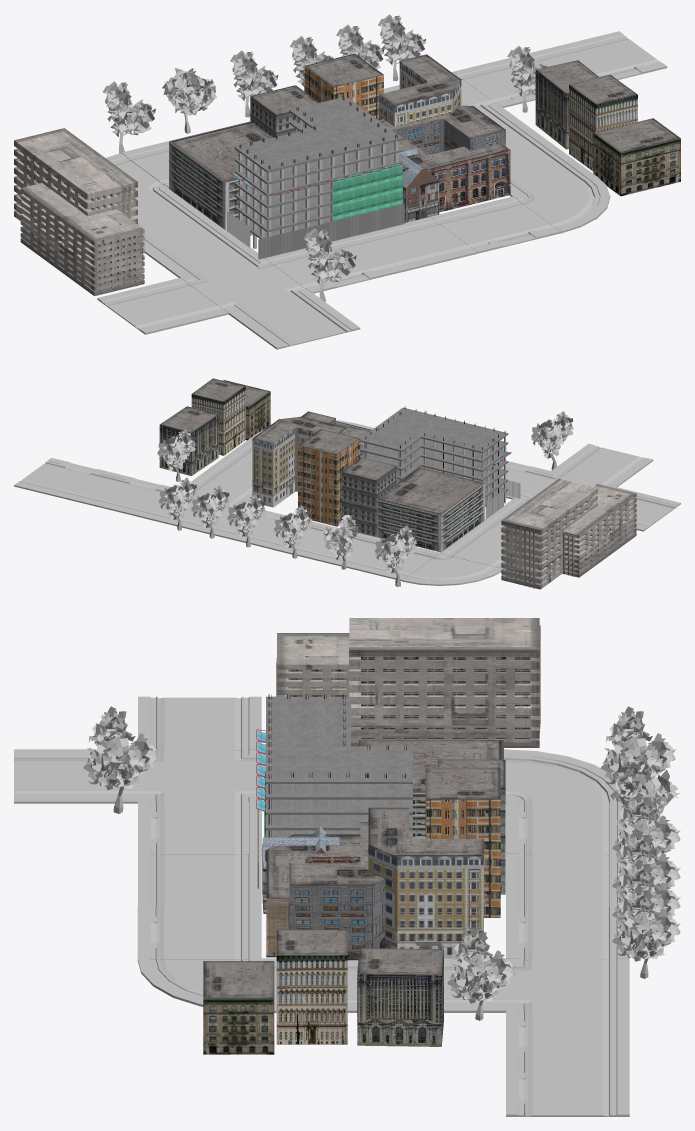
File: character5.fbx
3 views of the same model, one above another, from view 1: azimuth 30°, elevation 25°; view 2: azimuth 150°, elevation 25°; view 3: azimuth 270°, elevation 25° (orthographic). The views are drawn at different scales.
Visible parts, largest first — view 1: The_City:bldgs2.004, Plane.002, The_City:mesh01.001, The_City:mesh01.009, The_City:mesh01.014, Road-2-Lane-Straight.001, Road-2-Lane-Straight.002, Road-2-Lane-Driveway, The_City:mesh01.005, The_City:mesh01.013, Road-2-Lane-Straight, Road-2-Lane-X (+19 smaller); view 2: The_City:bldgs2.004, Plane.002, The_City:mesh01.009, The_City:mesh01.002, The_City:mesh01.005, The_City:mesh01.004, The_City:mesh01.013, The_City:mesh01.012, Road-2-Lane-Driveway.005, Road-2-Lane-Straight.002, Road-2-Lane-Driveway.004, Road-2-Lane-Corner.001 (+15 smaller); view 3: The_City:bldgs2.004, Plane.002, The_City:mesh01.005, The_City:mesh01.001, The_City:mesh01.012, The_City:mesh01.013, The_City:mesh01.002, The_City:mesh01.014, Road-2-Lane-Driveway.005, Road-2-Lane-Driveway, Road-2-Lane-Driveway.004, Road-2-Lane-Straight (+15 smaller).
Boxes of the visible parts, x1=… form: The_City:bldgs2.004: x1=14, y1=128, x2=144, y2=296; Plane.002: x1=234, y1=96, x2=402, y2=238; The_City:mesh01.001: x1=377, y1=105, x2=510, y2=212; The_City:mesh01.009: x1=169, y1=121, x2=272, y2=229; The_City:mesh01.014: x1=593, y1=118, x2=680, y2=196; Road-2-Lane-Straight.001: x1=97, y1=277, x2=228, y2=334; Road-2-Lane-Straight.002: x1=229, y1=292, x2=360, y2=349; Road-2-Lane-Driveway: x1=430, y1=196, x2=561, y2=253; The_City:mesh01.005: x1=379, y1=54, x2=461, y2=126; The_City:mesh01.013: x1=569, y1=74, x2=637, y2=171; Road-2-Lane-Straight: x1=348, y1=217, x2=478, y2=273; Road-2-Lane-X: x1=181, y1=258, x2=311, y2=313; The_City:bldgs2.004: x1=501, y1=479, x2=636, y2=589; Plane.002: x1=360, y1=407, x2=508, y2=506; The_City:mesh01.009: x1=377, y1=467, x2=485, y2=552; The_City:mesh01.002: x1=298, y1=429, x2=360, y2=526; The_City:mesh01.005: x1=252, y1=416, x2=347, y2=507; The_City:mesh01.004: x1=341, y1=457, x2=397, y2=538; The_City:mesh01.013: x1=191, y1=378, x2=245, y2=455; The_City:mesh01.012: x1=159, y1=406, x2=218, y2=475; Road-2-Lane-Driveway.005: x1=14, y1=458, x2=115, y2=502; Road-2-Lane-Straight.002: x1=551, y1=443, x2=653, y2=487; Road-2-Lane-Driveway.004: x1=78, y1=473, x2=171, y2=517; Road-2-Lane-Corner.001: x1=402, y1=553, x2=502, y2=585; The_City:bldgs2.004: x1=276, y1=618, x2=540, y2=747; Plane.002: x1=266, y1=696, x2=412, y2=838; The_City:mesh01.005: x1=368, y1=807, x2=483, y2=958; The_City:mesh01.001: x1=265, y1=822, x2=384, y2=960; The_City:mesh01.012: x1=357, y1=948, x2=443, y2=1046; The_City:mesh01.013: x1=276, y1=929, x2=347, y2=1044; The_City:mesh01.002: x1=425, y1=767, x2=500, y2=917; The_City:mesh01.014: x1=203, y1=961, x2=274, y2=1054; Road-2-Lane-Driveway.005: x1=506, y1=1062, x2=629, y2=1116; Road-2-Lane-Driveway: x1=137, y1=906, x2=261, y2=959; Road-2-Lane-Driveway.004: x1=506, y1=1010, x2=629, y2=1063; Road-2-Lane-Straight: x1=138, y1=853, x2=261, y2=907.
Size of the model in its own units: 21680 by 3170 by 14617.
